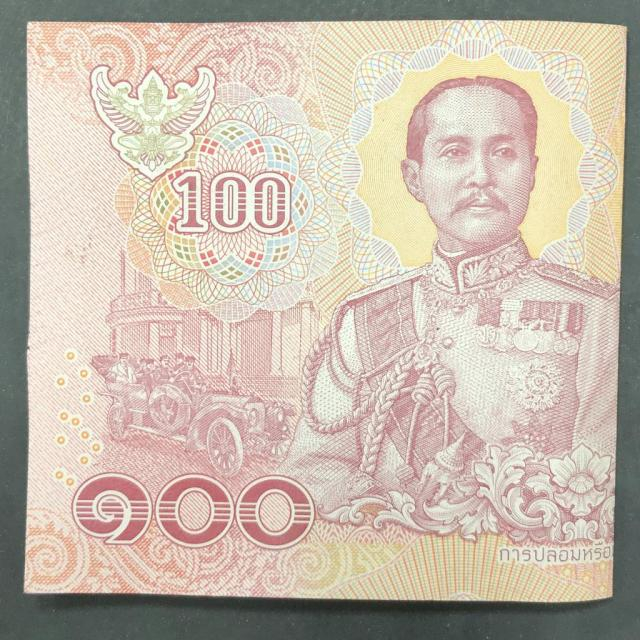THAI100: (23, 20, 626, 603)
